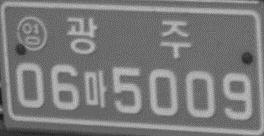0: (147, 66, 179, 116), (184, 69, 216, 118), (15, 61, 44, 108)
5: (112, 66, 143, 114)
6: (49, 63, 80, 111)
9: (221, 72, 253, 121)
광주_D: (65, 16, 191, 59)
마: (83, 69, 108, 108)
영: (15, 15, 49, 52)
